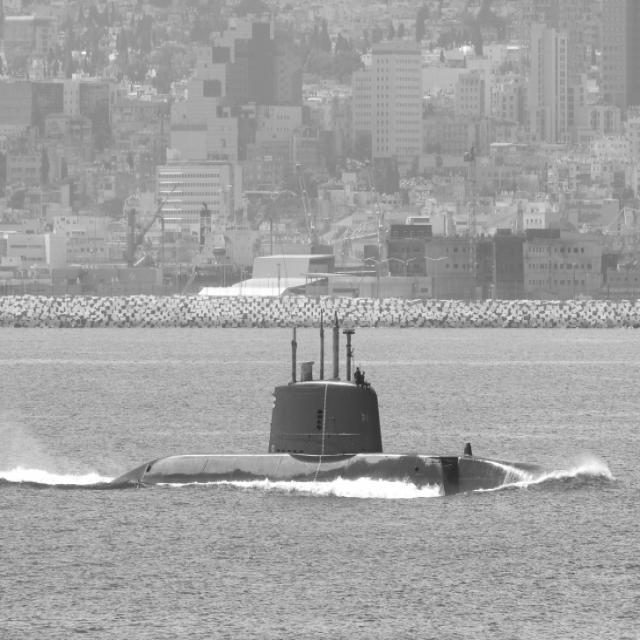submarine: (106, 308, 543, 490)
